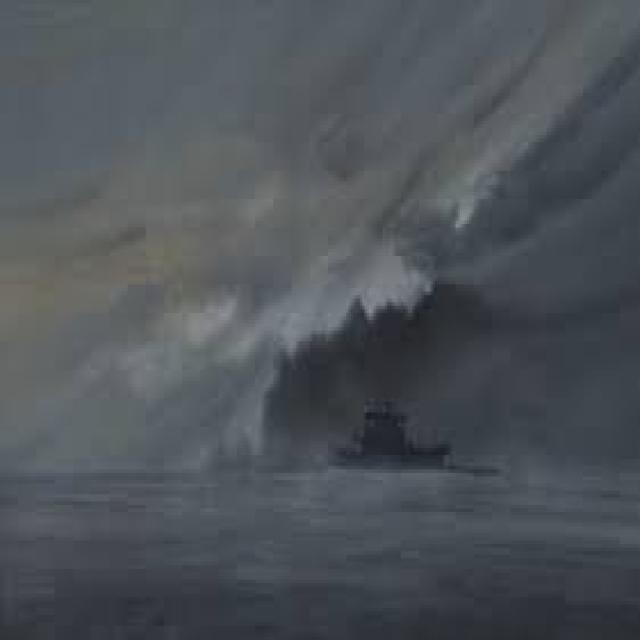cargoship: (309, 398, 508, 493)
